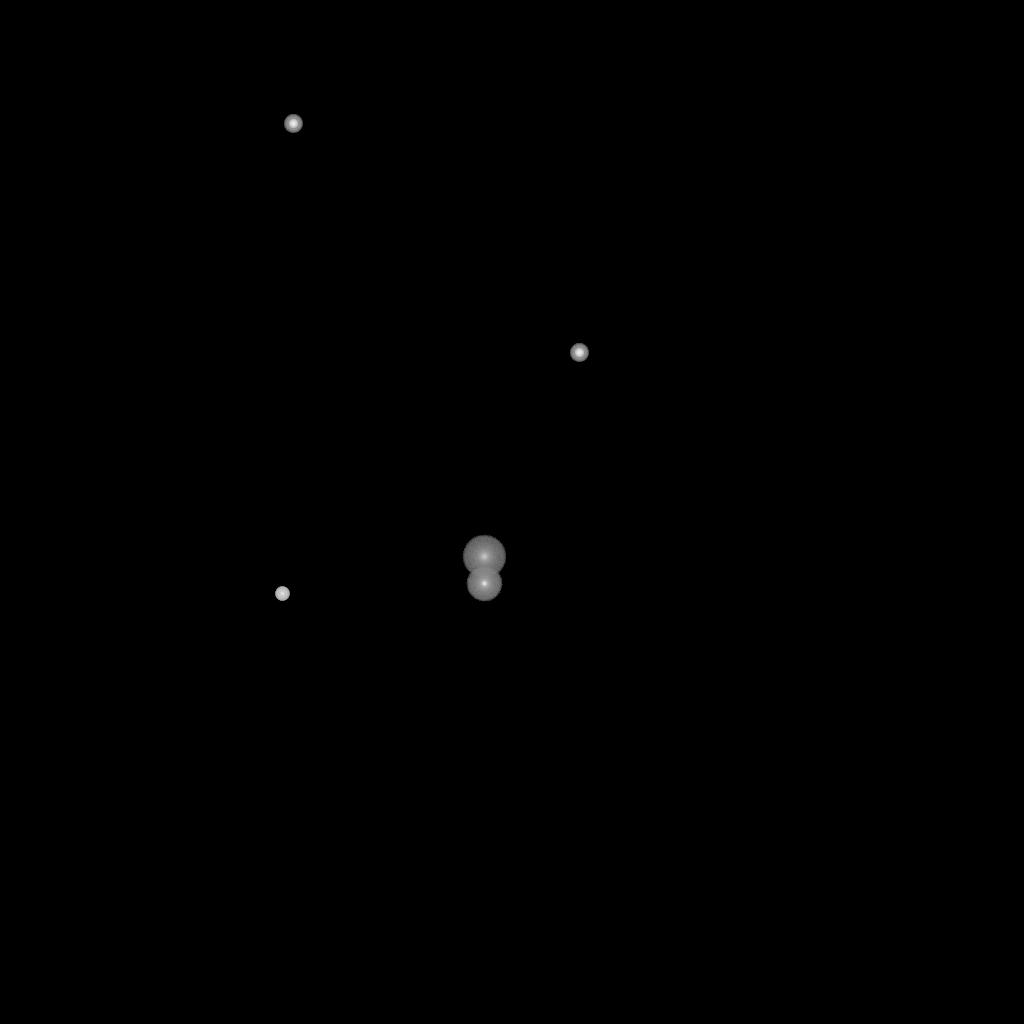depth:-20: (284, 115, 302, 133), (570, 344, 588, 362)
depth:-30: (275, 587, 289, 601)
depth:0: (466, 566, 502, 602)
depth:10: (462, 535, 506, 579)
